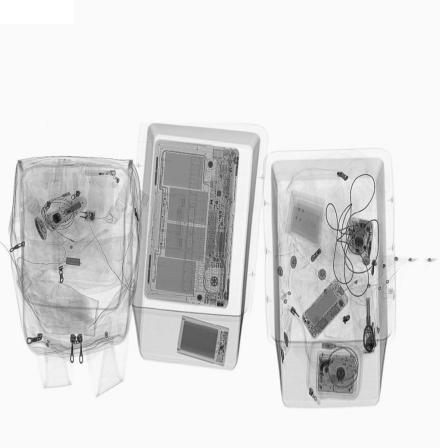Lighter: (84, 170, 117, 178)
